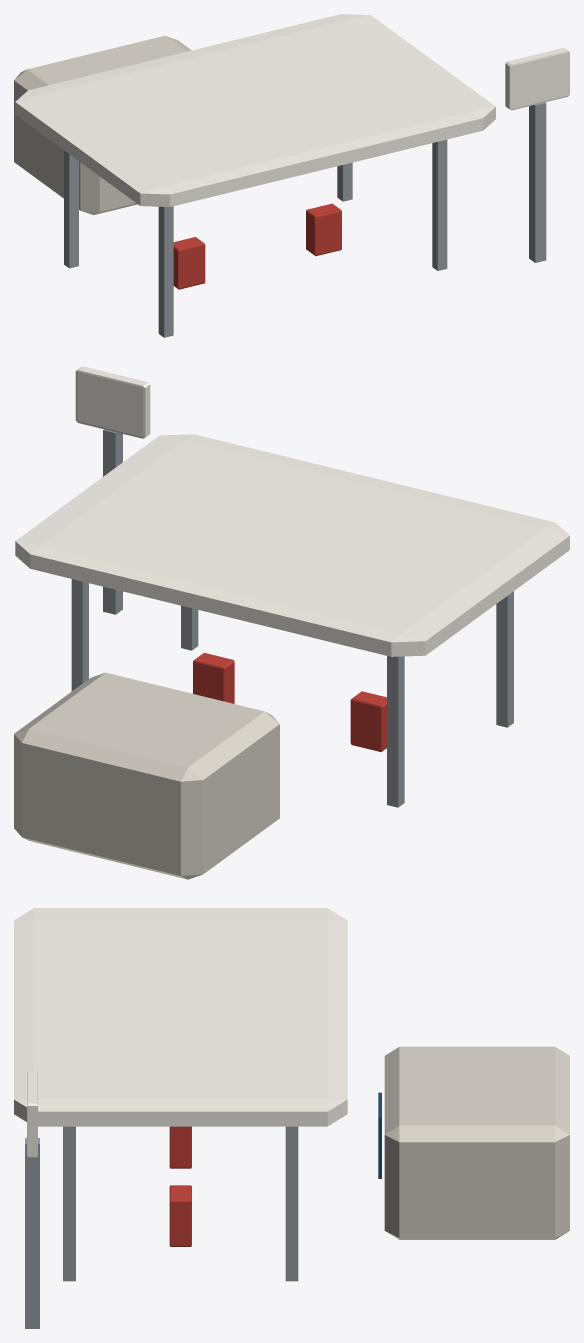
The model's file is gas.glb.
3 views of the same model, one above another, from view 1: azimuth 30°, elevation 25°; view 2: azimuth 150°, elevation 25°; view 3: azimuth 270°, elevation 25° (orthographic). The views are drawn at different scales.
Parts seen in each view (by area): view 1: canopy, kiosk, pricesign, pricepost, post, post.001, pump.001, post.002, pump, post.003; view 2: canopy, kiosk, pricesign, post.002, post, pump, post.003, pump.001, pricepost, post.001; view 3: canopy, kiosk, pricepost, post.003, post.001, pump.001, pump, pricesign.
Boxes of the visible parts, box(x1,y1,x2,y2) form: canopy: box(15, 14, 495, 206); kiosk: box(14, 35, 191, 215); pricesign: box(505, 47, 569, 110); pricepost: box(529, 102, 546, 262); post: box(158, 206, 173, 337); post.001: box(432, 139, 447, 270); pump.001: box(306, 203, 341, 256); post.002: box(64, 150, 78, 268); pump: box(173, 237, 205, 289); post.003: box(337, 162, 352, 201); canopy: box(15, 434, 569, 656); kiosk: box(14, 672, 279, 879); pricesign: box(75, 366, 150, 438); post.002: box(387, 656, 404, 807); post: box(496, 591, 513, 727); pump: box(350, 691, 386, 751); post.003: box(71, 579, 88, 691); pump.001: box(193, 652, 234, 703); pricepost: box(103, 429, 122, 614); post.001: box(181, 605, 198, 650); canopy: box(14, 908, 347, 1126); kiosk: box(384, 1046, 569, 1239); pricepost: box(25, 1138, 39, 1328); post.003: box(285, 1126, 298, 1281); post.001: box(63, 1126, 75, 1281); pump.001: box(169, 1185, 191, 1246); pump: box(169, 1126, 191, 1168); pricesign: box(27, 1071, 37, 1157).
Bounding box in the file's own units: 15.6 × 7.1 × 15.
